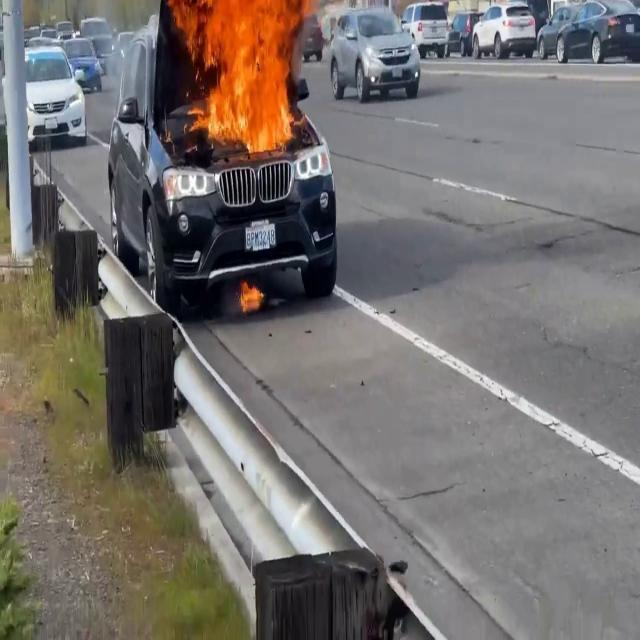Fire: (174, 0, 304, 156), (237, 276, 264, 320)
